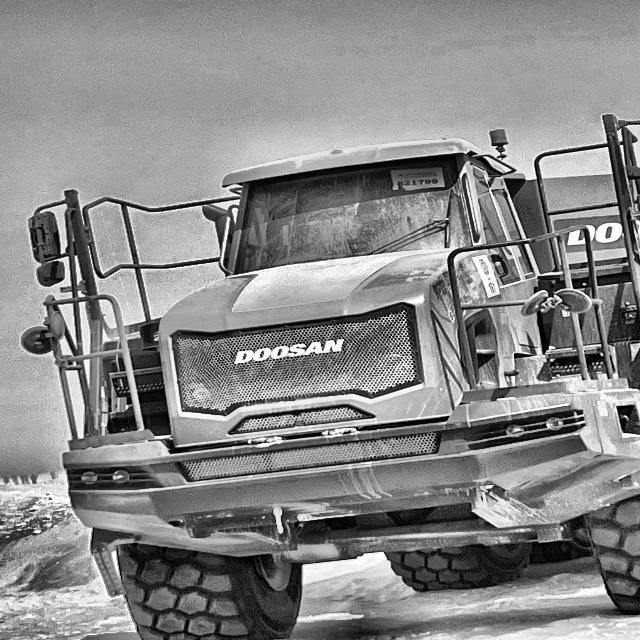dump_truck: (18, 98, 640, 640)
